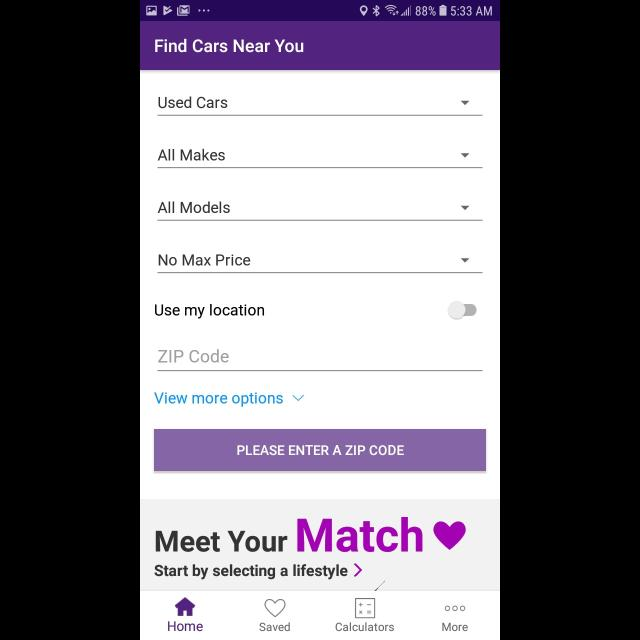icon: (434, 522, 466, 550), (264, 598, 286, 618), (356, 598, 376, 618), (174, 598, 196, 616), (444, 605, 466, 611), (353, 563, 362, 577), (292, 394, 304, 402), (460, 100, 470, 106), (460, 206, 470, 210), (460, 154, 470, 158), (462, 258, 471, 262)
input: (158, 348, 482, 372), (158, 96, 482, 116), (158, 149, 482, 169), (158, 202, 482, 222), (158, 254, 482, 274)
switch: (448, 300, 477, 320)
text: (297, 516, 423, 552), (154, 564, 348, 580), (156, 530, 288, 552), (154, 392, 284, 408), (156, 39, 304, 53), (156, 304, 264, 318), (159, 254, 251, 266), (158, 349, 230, 363), (157, 202, 230, 214), (158, 97, 228, 109), (158, 149, 226, 161), (336, 622, 394, 632), (168, 620, 204, 632), (260, 621, 290, 631), (442, 622, 468, 632)
textbutton: (154, 429, 486, 471)
uppertaskbar: (140, 1, 500, 22)
